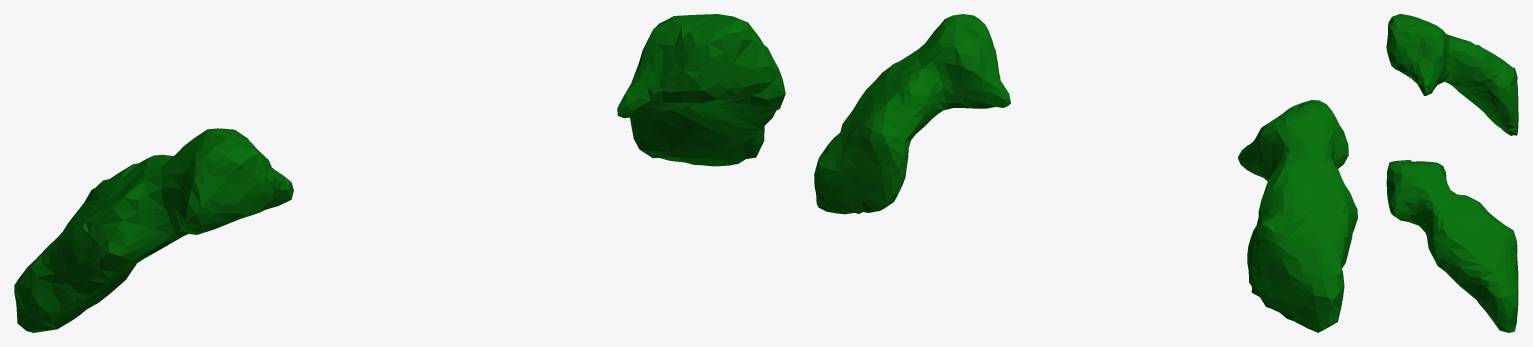
Rendered from 85-47(12)O-area 47 (old 12) of cortex, orbital part-('0.0000', '0.4980', '0.0353').obj.
The picture shows the model from 3 angles, left to right: view 1: azimuth 30°, elevation 25°; view 2: azimuth 150°, elevation 25°; view 3: azimuth 270°, elevation 25°; orthographic projection. The views are drawn at different scales.
Size of the model in its own units: 251 by 75.49 by 64.5.
